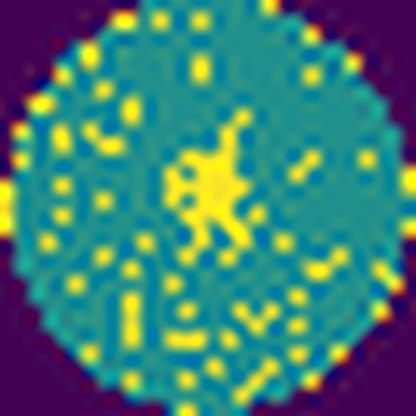Center: (166, 130, 251, 252)
